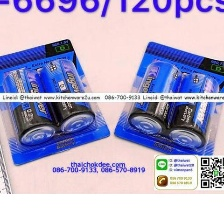battery: (37, 57, 97, 137), (1, 66, 58, 149), (127, 57, 185, 138), (165, 70, 220, 150)
book: (0, 35, 113, 169), (111, 39, 223, 165)
